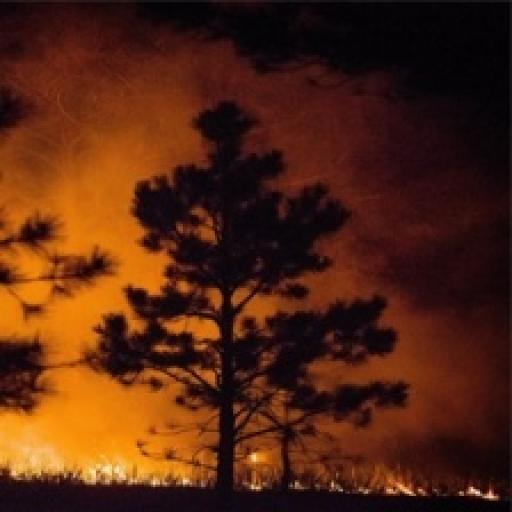fire and smoke: (0, 5, 509, 475)
